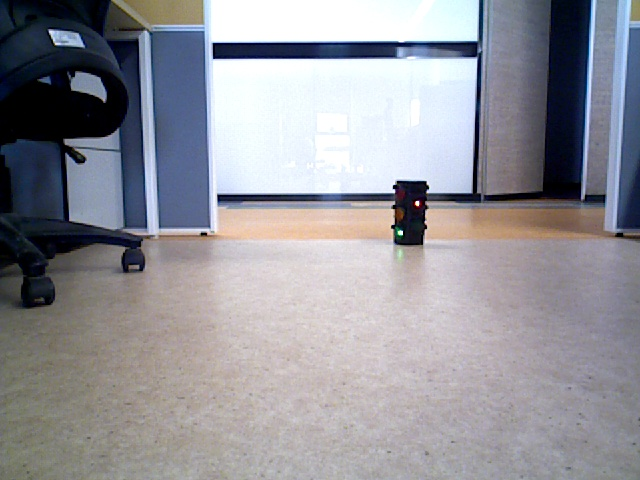green: (392, 182, 420, 240)
